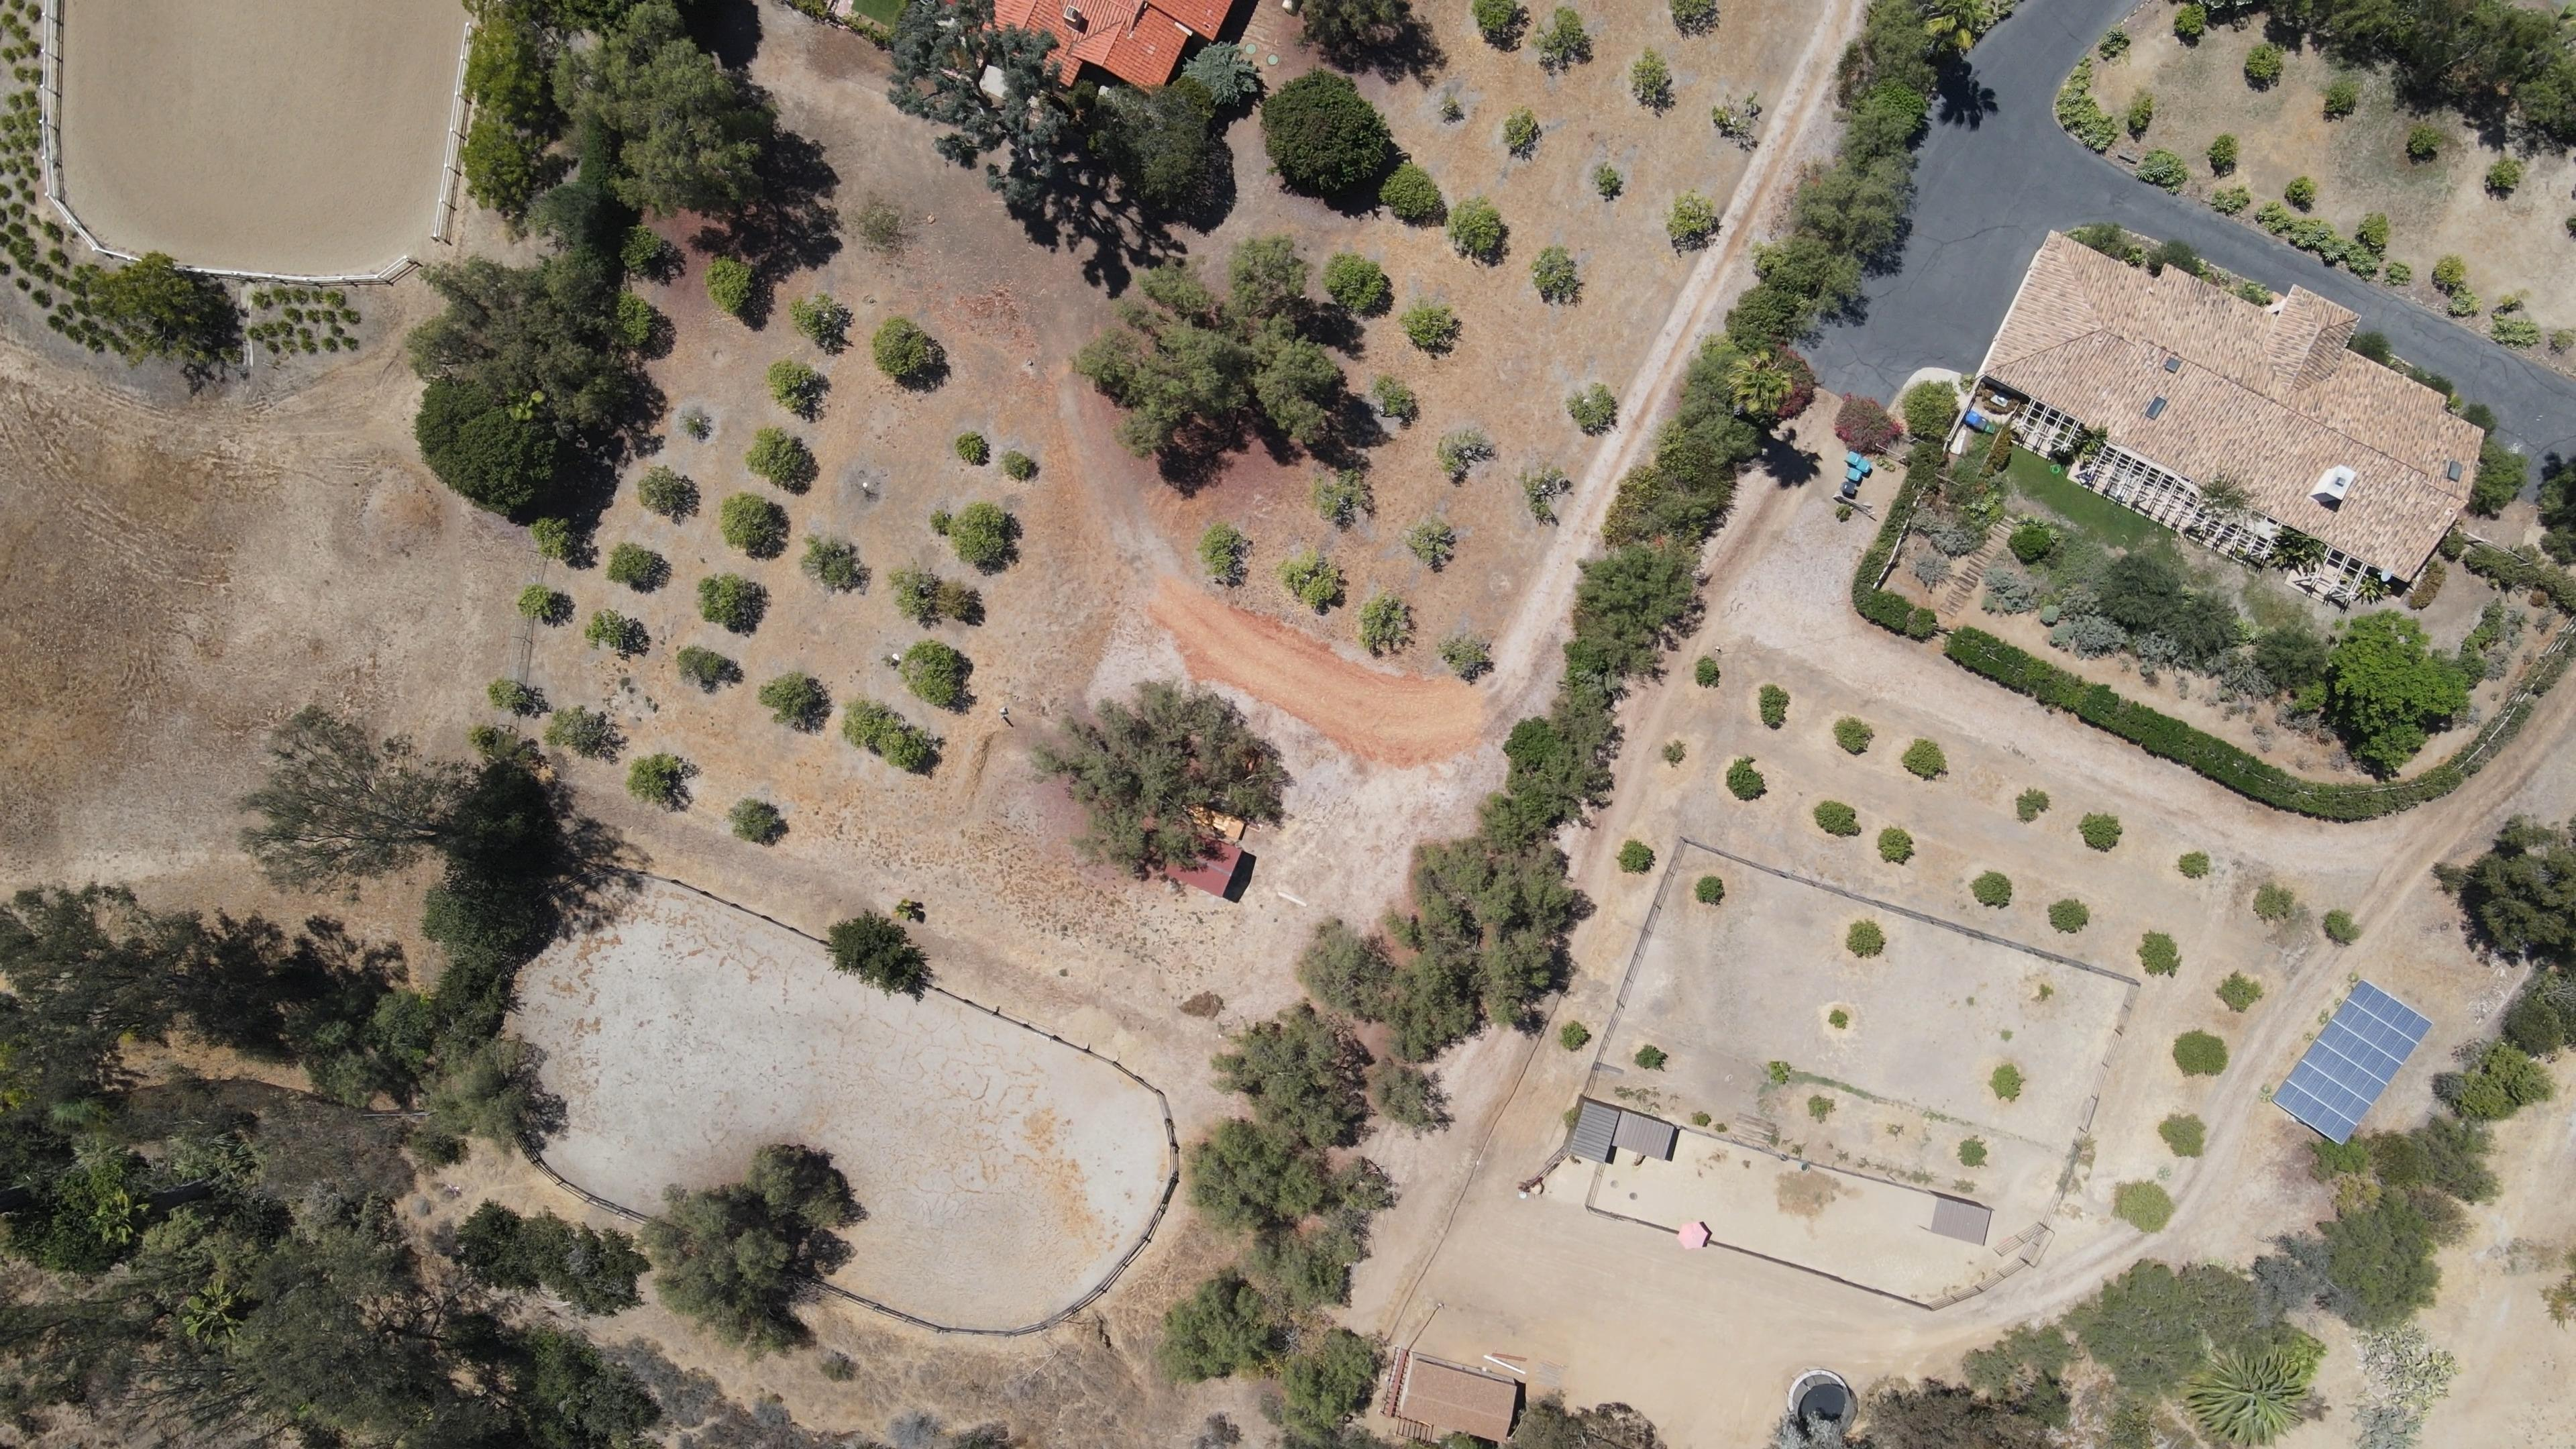solar-panels: (2270, 978, 2434, 1145)
